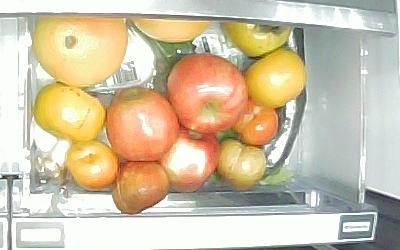apple: (166, 53, 248, 134), (107, 86, 179, 162), (162, 130, 220, 193)
grapefruit: (32, 13, 130, 88), (131, 16, 214, 45)
persimmon: (34, 83, 108, 141), (244, 47, 308, 107), (221, 19, 293, 56)
prune: (110, 159, 168, 215), (66, 138, 122, 192), (217, 138, 267, 192), (234, 102, 279, 146)
